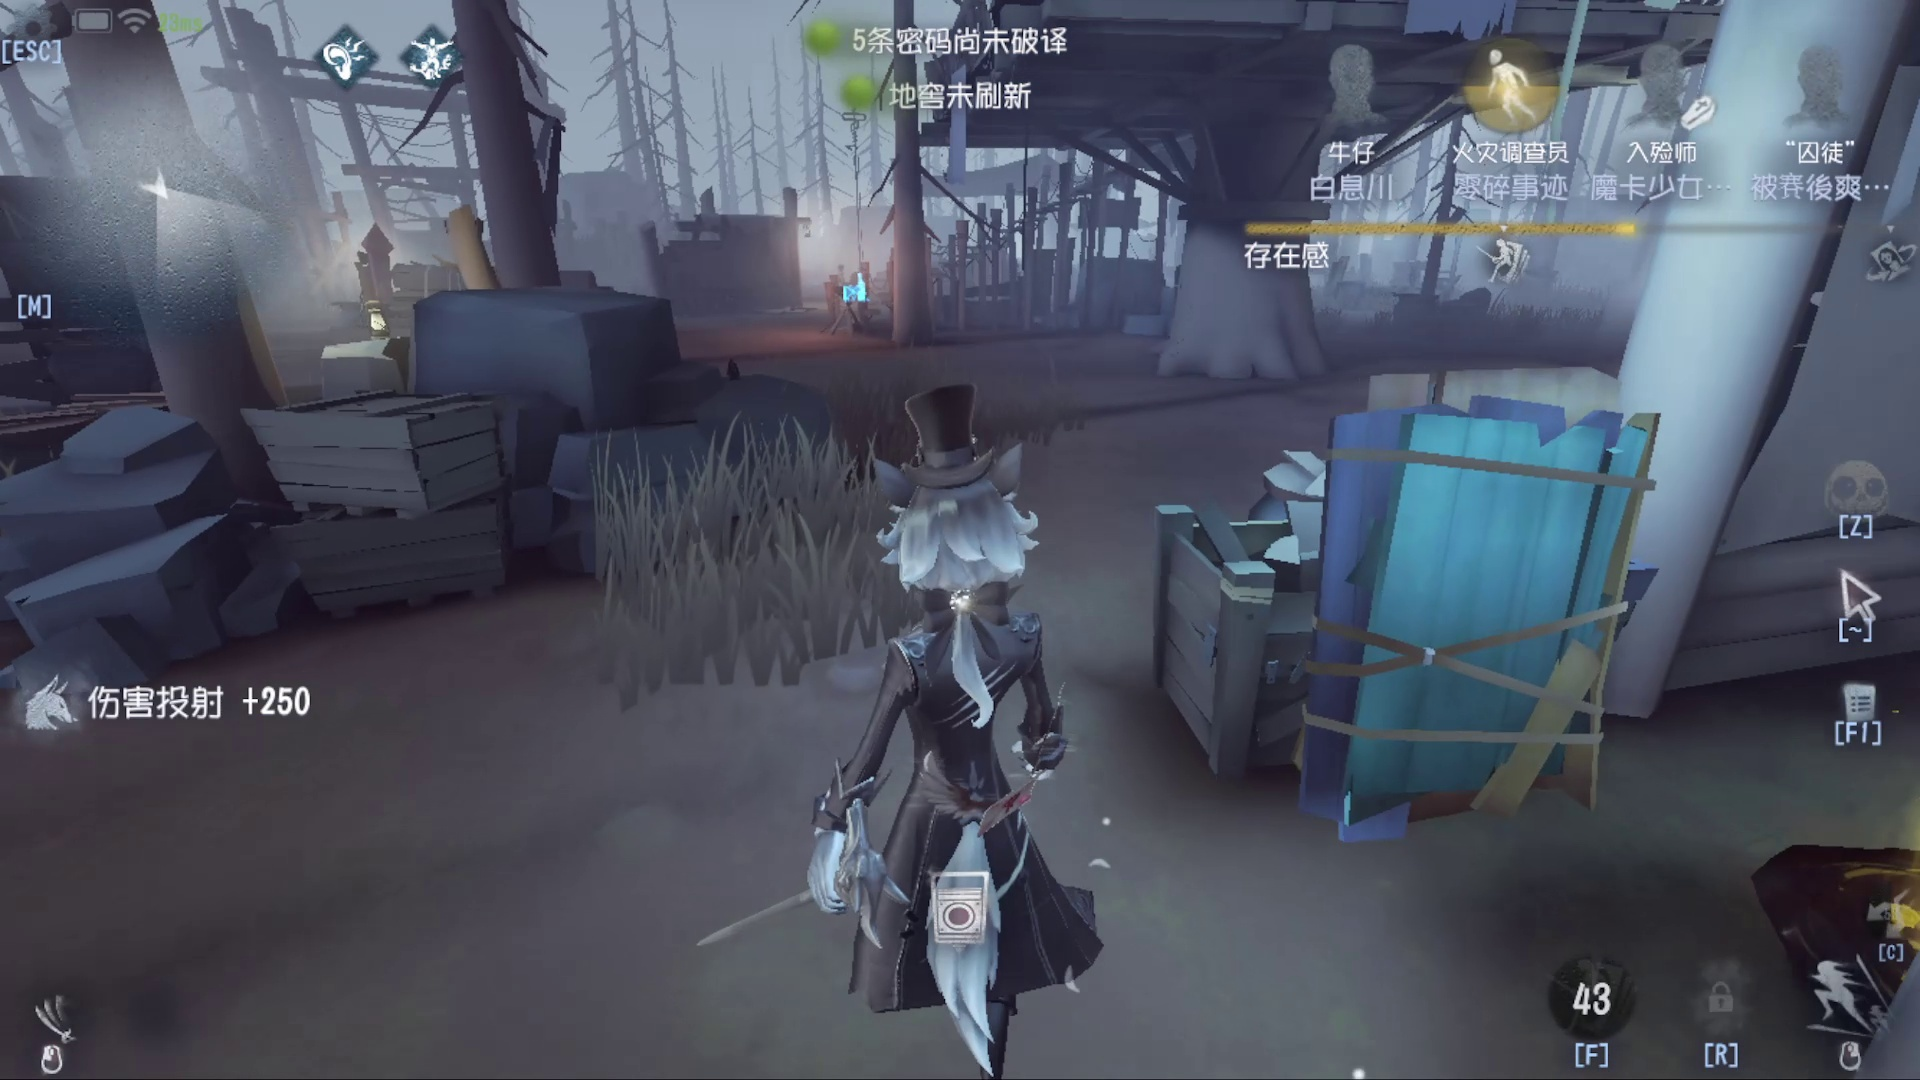密码机: (820, 95, 891, 326)
木板: (1288, 355, 1638, 829)
